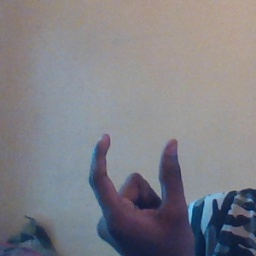U: (87, 127, 206, 254)
